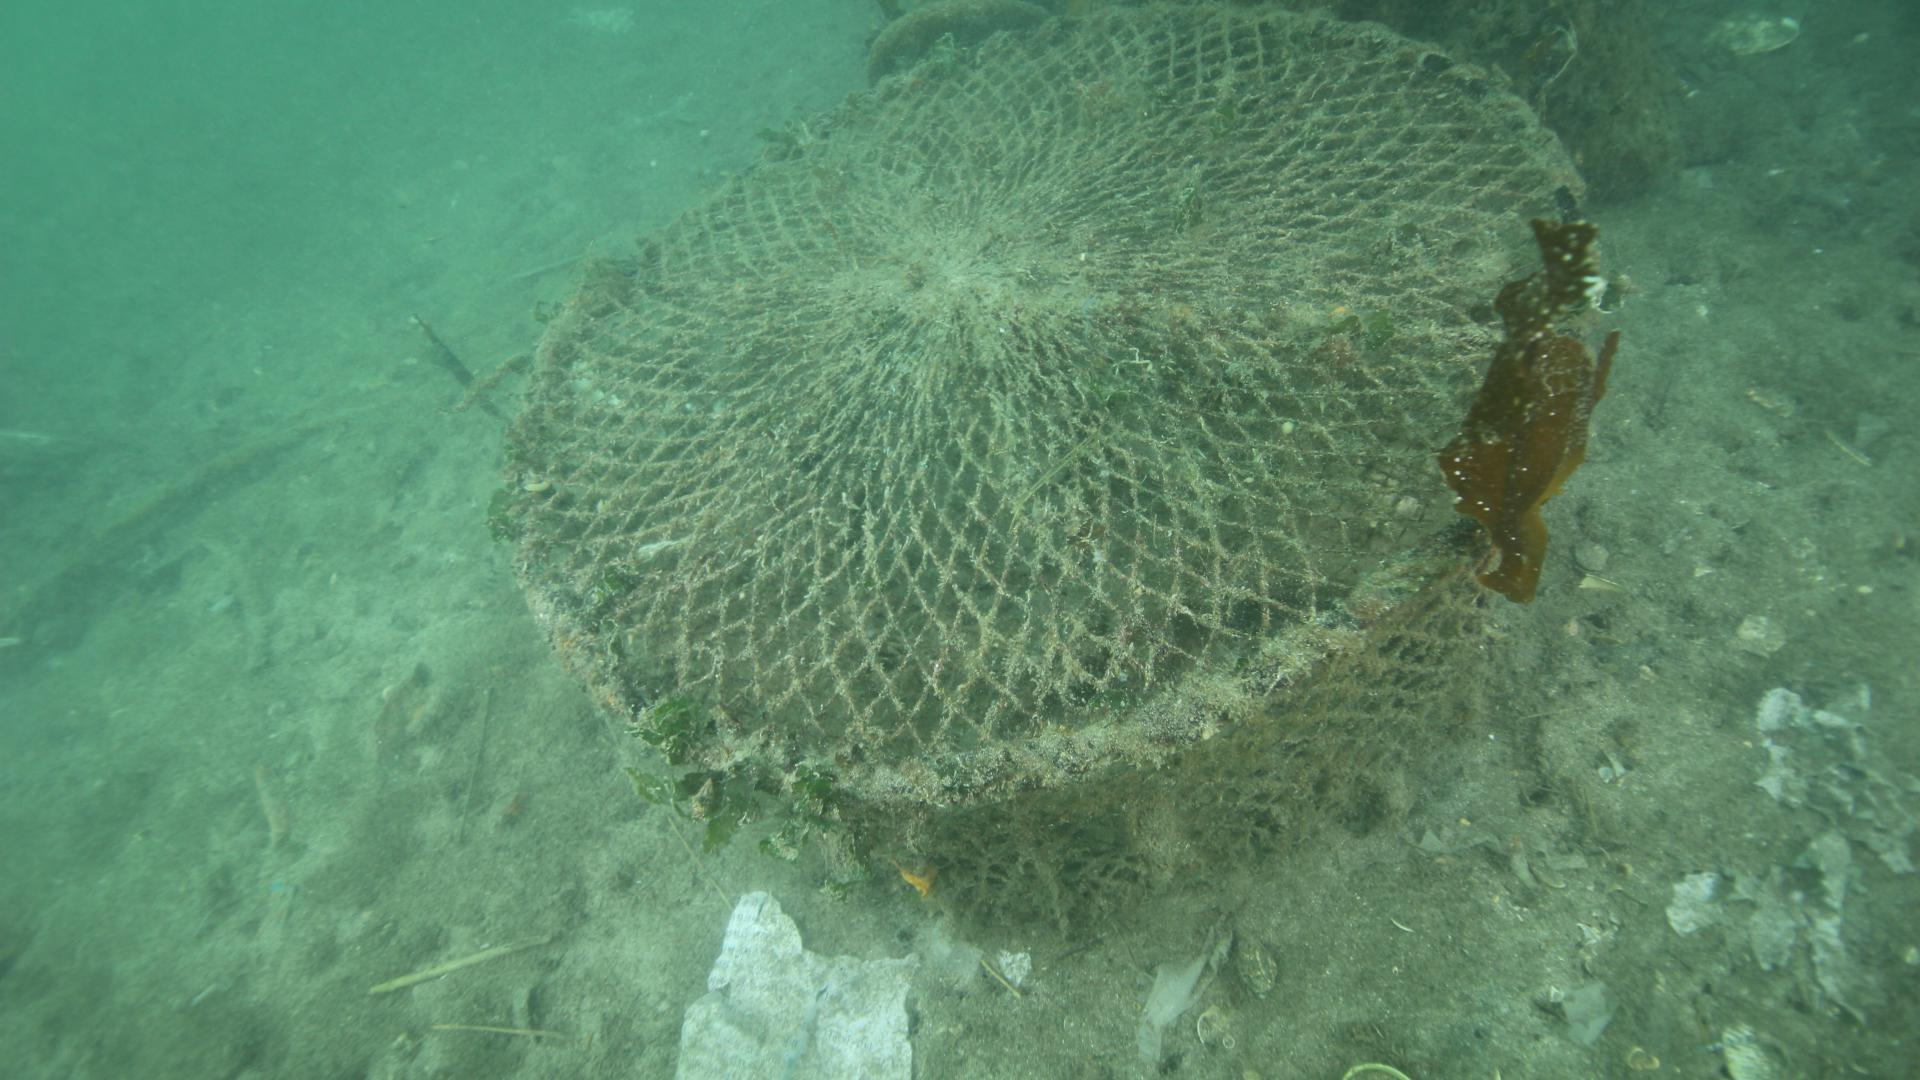circular fish trap: (502, 0, 1590, 951)
